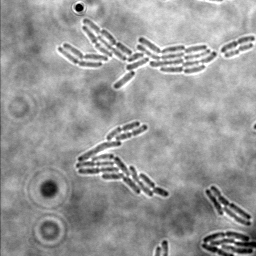Dividing: (219, 34, 256, 53), (223, 41, 254, 58)
Microcolony: (57, 18, 217, 90), (75, 120, 170, 198), (204, 184, 252, 227), (200, 230, 256, 256)
